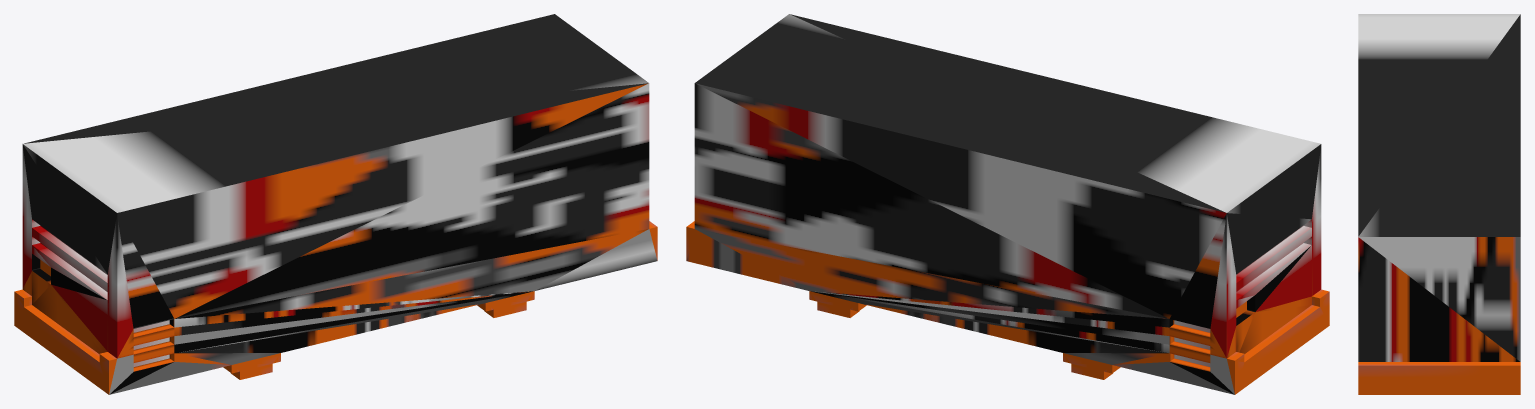
Rendered from veh_bus.dae.
3 views of the same model, side by side, from view 1: azimuth 30°, elevation 25°; view 2: azimuth 150°, elevation 25°; view 3: azimuth 270°, elevation 25° (orthographic). The views are drawn at different scales.
Visible parts, largest first — view 1: veh_bus; view 2: veh_bus; view 3: veh_bus.
Boxes of the visible parts, <box> form: veh_bus: <box>14,14,657,394</box>; veh_bus: <box>686,14,1329,394</box>; veh_bus: <box>1358,14,1520,394</box>.
Size of the model in its own units: 6.7 by 2 by 2.3.
